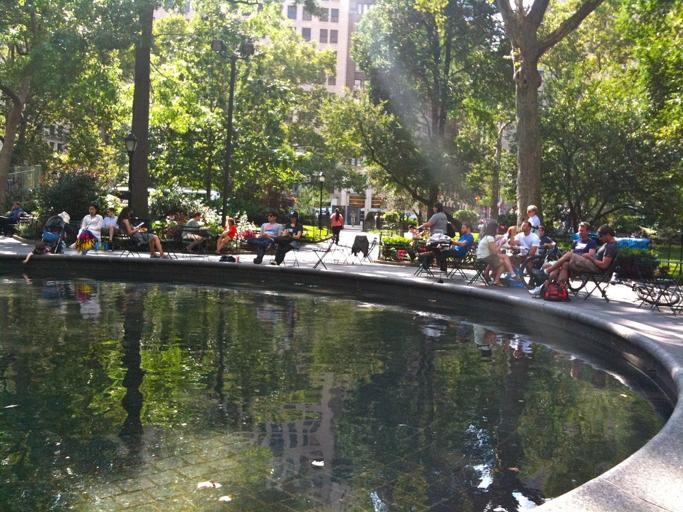non-vehicle: (516, 235, 592, 291), (600, 265, 680, 306)
